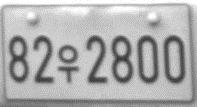0: (163, 34, 185, 83), (137, 34, 158, 83)
2: (85, 34, 108, 83), (32, 34, 54, 84)
8: (110, 34, 133, 83), (8, 35, 29, 82)
우: (56, 43, 80, 83)
